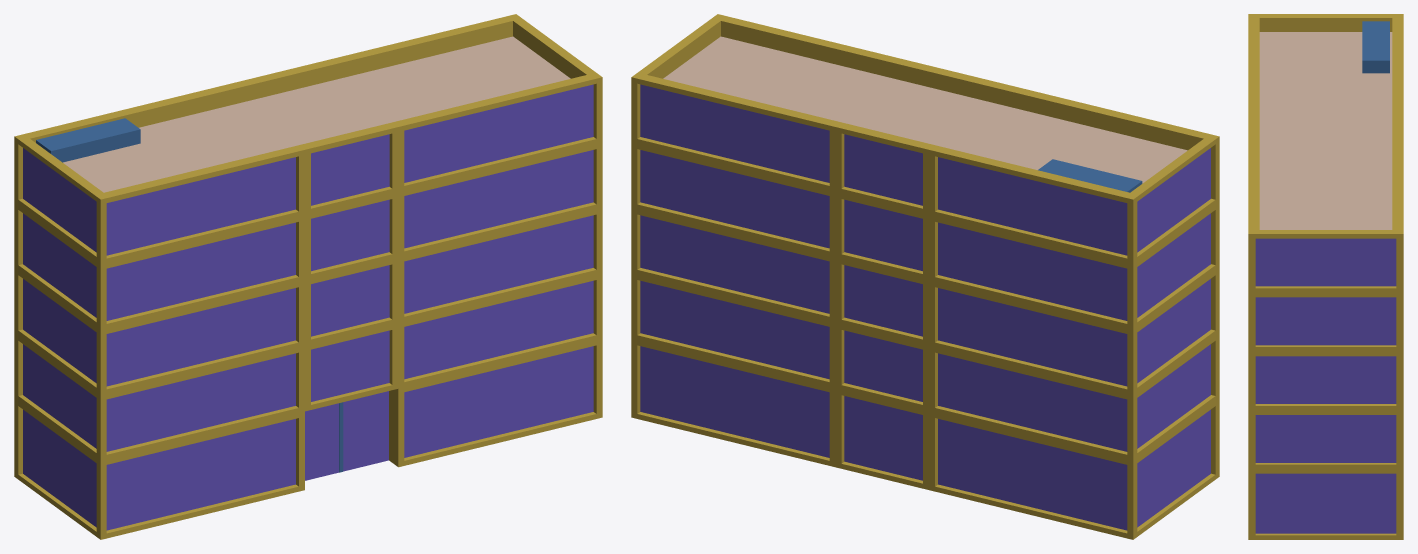
File: Target_Building_15.FBX
The picture shows the model from 3 angles, left to right: view 1: azimuth 30°, elevation 25°; view 2: azimuth 150°, elevation 25°; view 3: azimuth 270°, elevation 25°; orthographic projection. The views are drawn at different scales.
Visible parts, largest first — view 1: 2; view 2: 2; view 3: 2.
Boxes of the visible parts, x1,y1,x2,y2 form: 2: [14, 14, 602, 539]; 2: [631, 14, 1219, 539]; 2: [1248, 14, 1403, 539].
Size of the model in its own units: 514 by 333 by 153.
